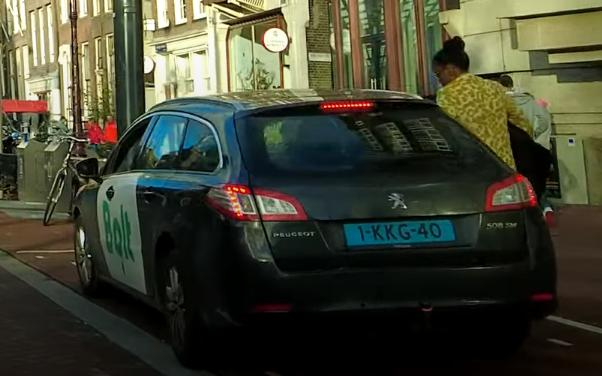license-plate: (340, 218, 460, 251)
